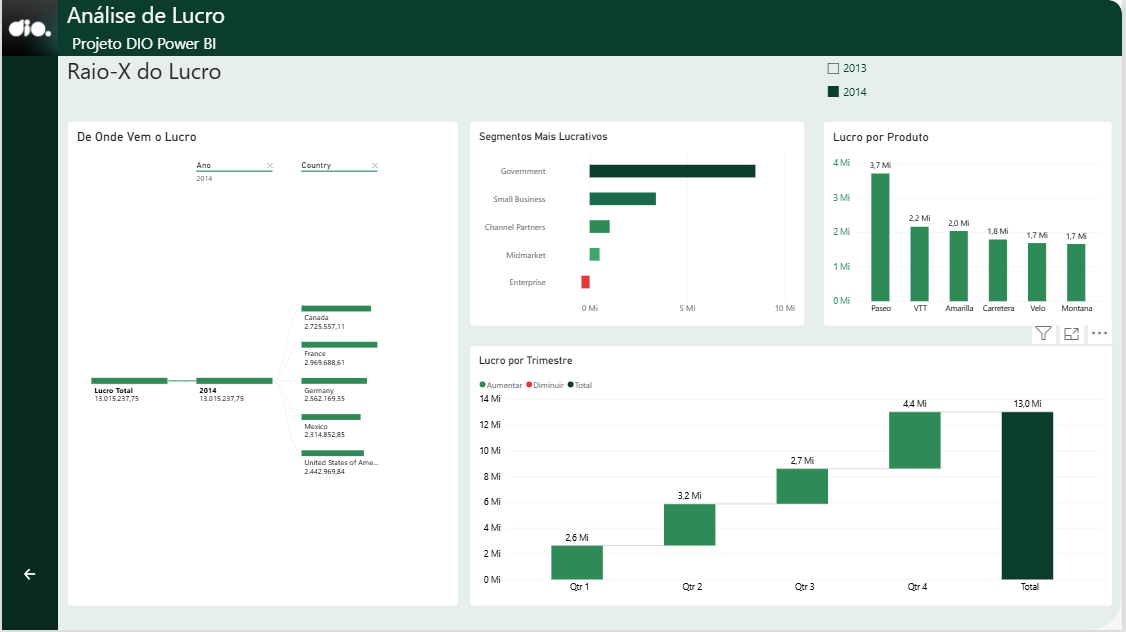

What the dashboard file says about the page in this screenshot:
{"tool":"powerbi","page":{"name":"Lucro","canvas":[1920,1080],"ordinal":1},"visuals":[{"type":"shape","box":[0,-8,1920,1088],"z":0},{"type":"shape","box":[0,-24,96,1104],"z":1000},{"type":"shape","box":[96,0,1808,96],"z":2000},{"type":"image","title":"Logo-Dio","box":[0,0,96,96],"z":3000},{"type":"textbox","box":[112,0,448,96],"z":4000},{"type":"textbox","box":[112,96,448,64],"z":5000},{"type":"shape","box":[128,96,400,112],"z":6000},{"type":"decompositionTreeVisual","title":"De Onde Vem o Lucro","fields":{"Analyze":["Sum(financials.Profit)"],"ExplainBy":["financials.Date.Variation.Hierarquia de datas.Ano","financials.Country"]},"box":[112,208,672,832],"z":7000},{"type":"clusteredBarChart","title":"Segmentos Mais Lucrativos","fields":{"Category":["financials.Segment"],"Y":["Sum(financials.Profit)"]},"box":[800,208,576,352],"z":8000},{"type":"clusteredColumnChart","title":"Lucro por Produto","fields":{"Category":["financials.Product"],"Y":["Sum(financials.Profit)"]},"box":[1408,208,496,352],"z":9000},{"type":"waterfallChart","title":"Lucro por Trimestre","fields":{"Category":["financials.Date.Variation.Hierarquia de datas.Trimestre"],"Y":["Sum(financials.Profit)"]},"box":[800,592,1104,448],"z":10000},{"type":"actionButton","box":[0,944,96,80],"z":11000},{"type":"slicer","fields":{"Values":["financials.Date.Variation.Hierarquia de datas.Ano"]},"box":[1408,96,496,112],"z":12000}]}

Visuals, with their boxes in screenshot pixels (x1, y1, x2, y2), scaled from the page's 1920x1080 canvas onto the 1126x632 screenshot:
shape: rect(0, 0, 1125, 631)
shape: rect(0, 0, 56, 631)
shape: rect(56, 0, 1117, 56)
"Logo-Dio" image: rect(0, 0, 56, 56)
textbox: rect(66, 0, 328, 56)
textbox: rect(66, 56, 328, 94)
shape: rect(75, 56, 310, 122)
"De Onde Vem o Lucro" decompositionTreeVisual: rect(66, 122, 460, 609)
"Segmentos Mais Lucrativos" clusteredBarChart: rect(469, 122, 807, 328)
"Lucro por Produto" clusteredColumnChart: rect(826, 122, 1117, 328)
"Lucro por Trimestre" waterfallChart: rect(469, 346, 1117, 609)
actionButton: rect(0, 552, 56, 599)
slicer - financials.Date.Variation.Hierarquia de datas.Ano: rect(826, 56, 1117, 122)
